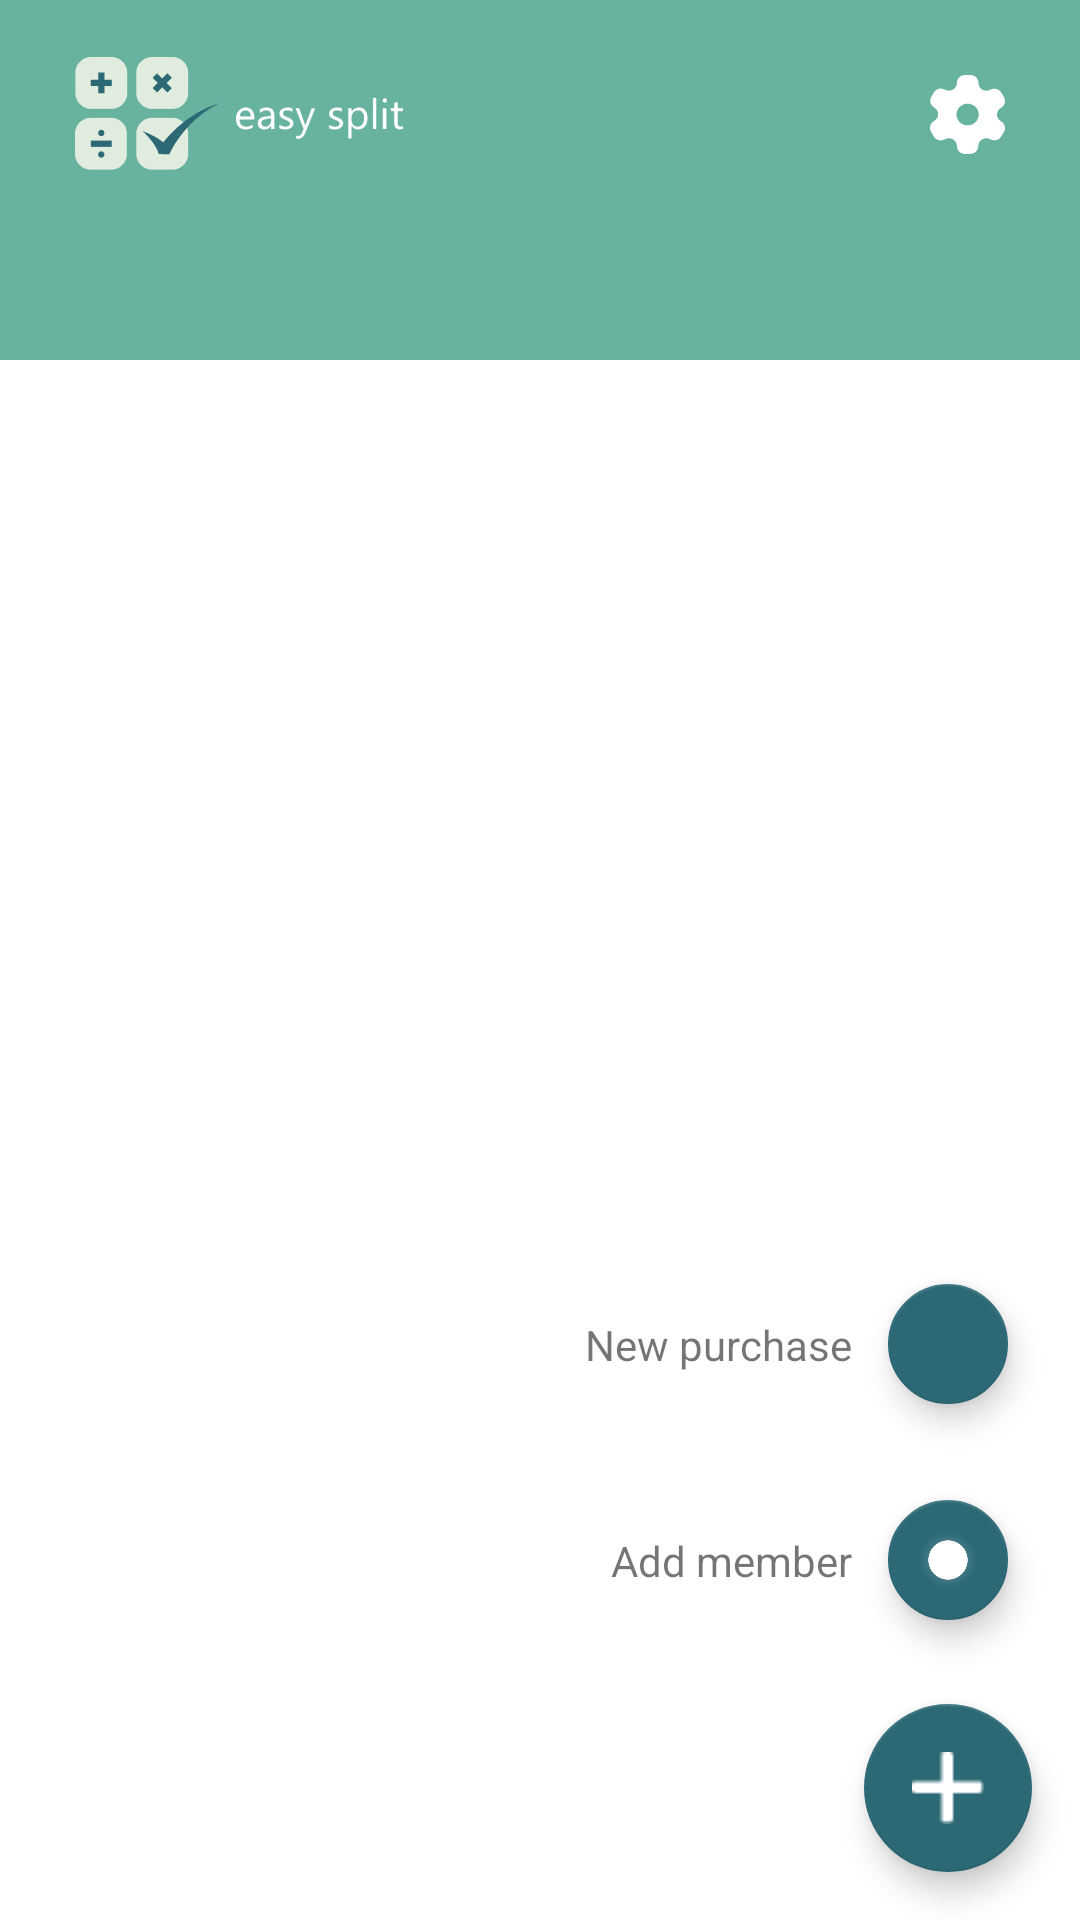

Named icons in this screenshot (1080*1920) and their bounding boxes, bbox=(x1, y1, x2, y2):
ig setting: bbox=(930, 75, 1005, 154)
